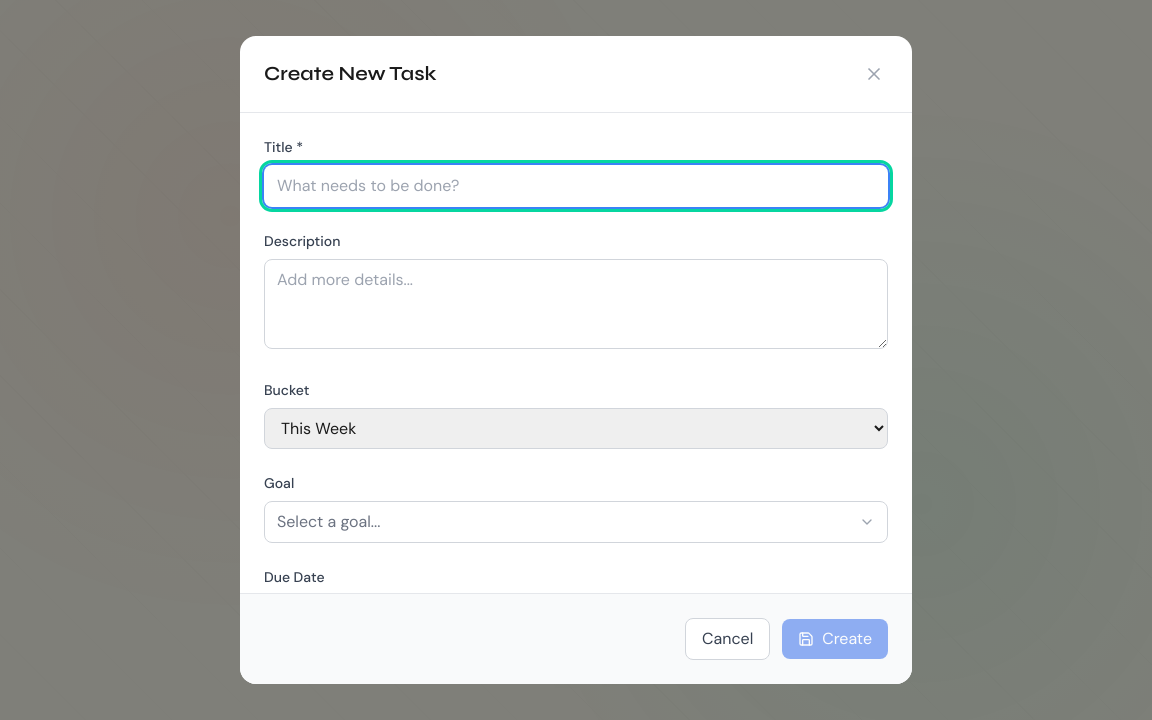
Test: TaskEditor › disables save button when title is empty
Check: the button "Create" is disabled, box [782, 619, 888, 659]
// Add a title and check that the button becomes enabled
Type "Test task" into the field labelled "Title *" at x=576, y=186, box [264, 165, 888, 207]
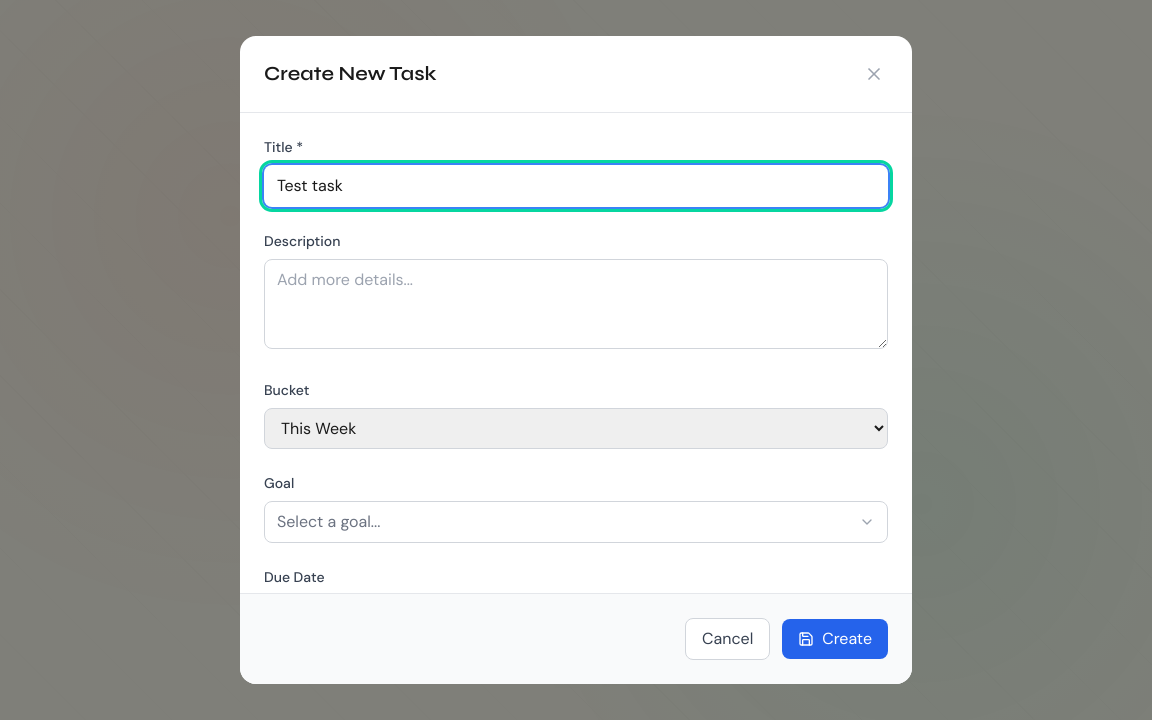
Check: the button "Create" is enabled, box [782, 619, 888, 659]
